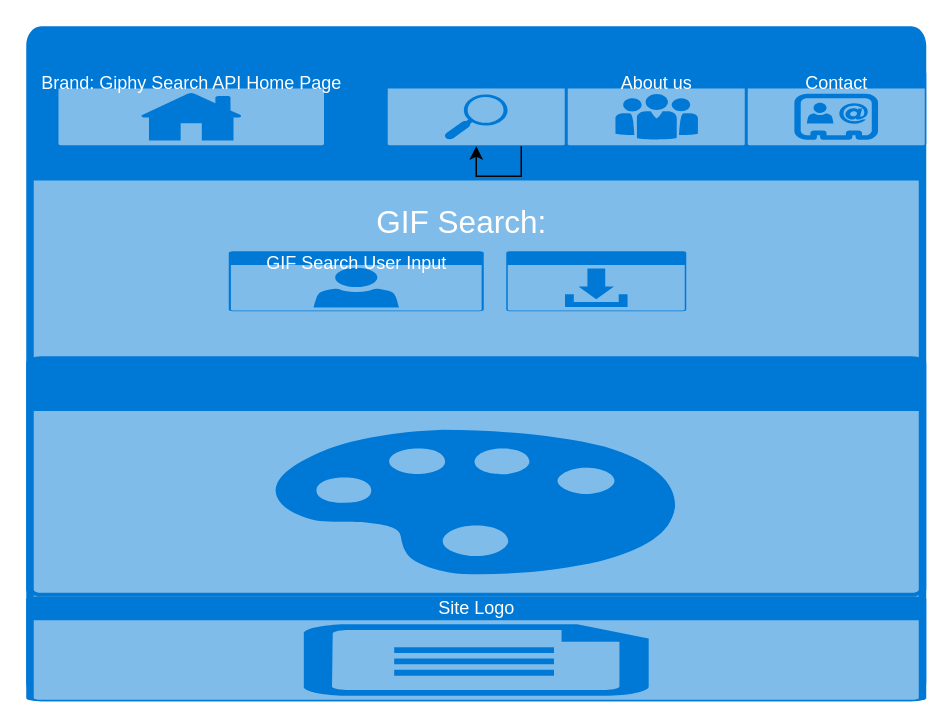
The diagram is 951 pixels wide and 726 high, and some of its shapes have lost their labels. The shapes that lost their labels are listed below. From the top down, each one's box as (x1, y1, x2, y2) in pixels, then its label:
(386, 70, 566, 146): Search
(506, 250, 686, 310): Search Results Button
(26, 356, 926, 596): Gallery
